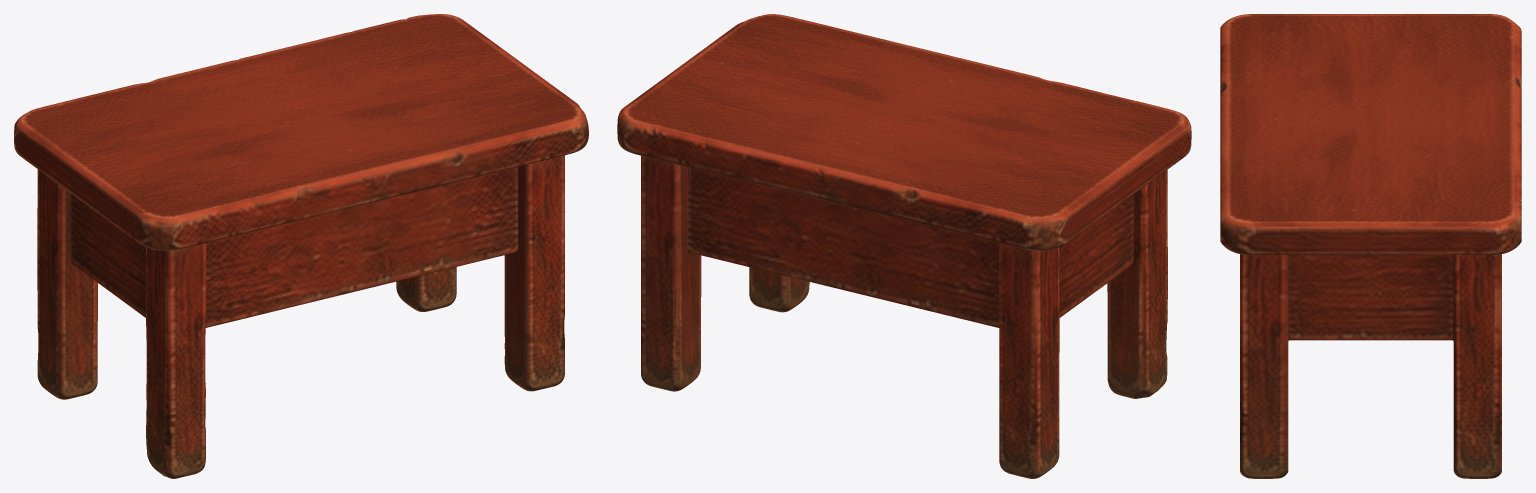
The model's file is table.glb.
3 renders of one model, left to right at view 1: azimuth 30°, elevation 25°; view 2: azimuth 150°, elevation 25°; view 3: azimuth 270°, elevation 25°, orthographic.
Bounding box in the file's own units: 1.9 × 1.1 × 1.13.
1 material, 1 textured.
